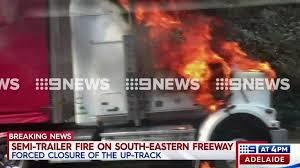fire: (130, 1, 277, 103)
